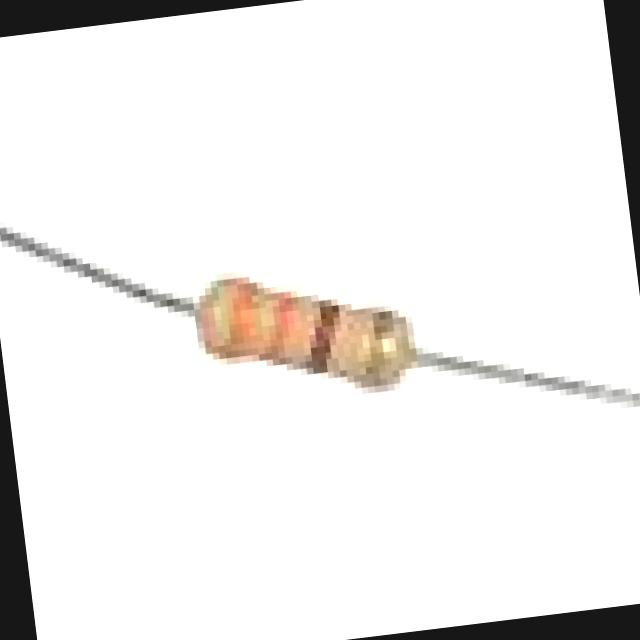Resistor: (194, 284, 411, 392)
brown: (310, 285, 349, 379)
gold: (367, 297, 405, 385)
orange: (232, 268, 271, 362), (270, 283, 307, 364)
